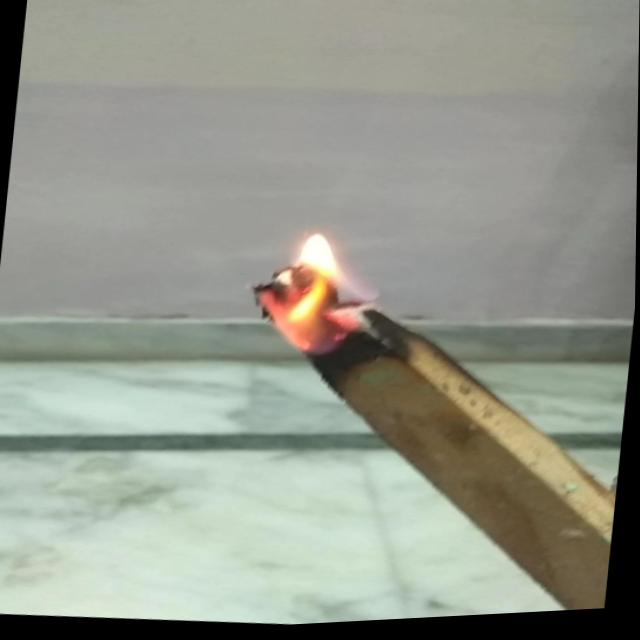fire: (236, 214, 392, 373)
